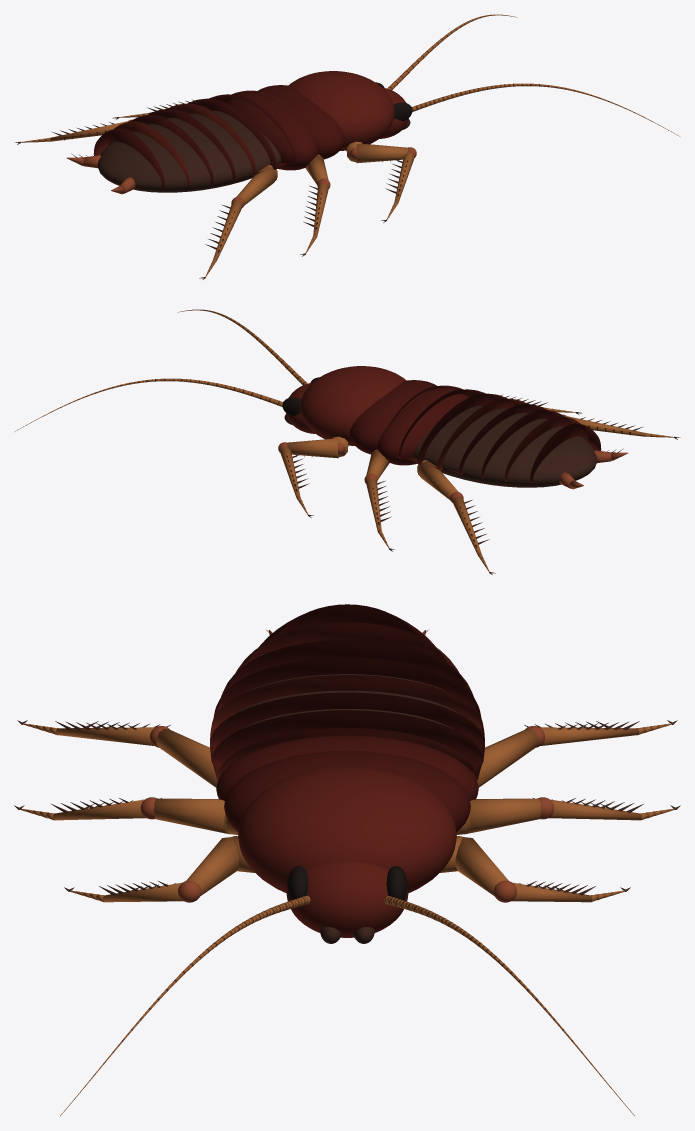
The model's file is roach-third-instar.glb.
3 views of the same model, one above another, from view 1: azimuth 30°, elevation 25°; view 2: azimuth 150°, elevation 25°; view 3: azimuth 270°, elevation 25° (orthographic). The views are drawn at different scales.
Visible parts, largest first — view 1: ventral abdomen, broad pronotal shield, metathorax, mesothorax, abdominal tergite 08, abdominal tergite 03, abdominal tergite 04, leg_0_-1_01, abdominal tergite 05, abdominal tergite 07, abdominal tergite 06, leg_2_-1_01 (+6 smaller); view 2: ventral abdomen, broad pronotal shield, metathorax, mesothorax, abdominal tergite 08, abdominal tergite 03, abdominal tergite 04, leg_0_1_01, abdominal tergite 05, abdominal tergite 07, abdominal tergite 06, leg_2_1_01 (+6 smaller); view 3: broad pronotal shield, mesothorax, head tucked under pronotum, abdominal tergite 02, abdominal tergite 03, metathorax, abdominal tergite 04, abdominal tergite 05, abdominal tergite 06, abdominal tergite 07, abdominal tergite 01, abdominal tergite 08 (+13 smaller).
Boxes of the visible parts, x1,y1,x2,y2 form: ventral abdomen: (97,110,281,192); broad pronotal shield: (288,71,394,150); metathorax: (226,93,317,170); mesothorax: (258,85,345,159); abdominal tergite 08: (93,128,164,188); abdominal tergite 03: (187,98,277,175); abdominal tergite 04: (159,103,257,179); leg_0_-1_01: (356,143,407,163); abdominal tergite 05: (141,109,235,183); abdominal tergite 07: (106,121,190,187); abdominal tergite 06: (124,115,213,183); leg_2_-1_01: (236,165,276,205); ventral abdomen: (413,405,597,487); broad pronotal shield: (300,366,406,445); metathorax: (377,388,468,465); mesothorax: (349,380,436,454); abdominal tergite 08: (530,423,601,483); abdominal tergite 03: (417,393,507,470); abdominal tergite 04: (437,398,535,474); leg_0_1_01: (287,438,338,458); abdominal tergite 05: (459,404,553,478); abdominal tergite 07: (504,416,588,482); abdominal tergite 06: (481,410,570,478); leg_2_1_01: (418,460,458,500); broad pronotal shield: (238,766,456,893); mesothorax: (224,750,470,832); head tucked under pronotum: (286,861,408,937); abdominal tergite 02: (211,710,483,778); abdominal tergite 03: (210,692,484,767); metathorax: (216,735,478,800); abdominal tergite 04: (210,675,484,748); abdominal tergite 05: (212,657,482,729); abdominal tergite 06: (218,639,476,709); abdominal tergite 07: (229,622,465,686); abdominal tergite 01: (217,728,477,780); abdominal tergite 08: (248,604,446,662).
Size of the model in its own units: 6.63 by 0.943 by 4.27.
